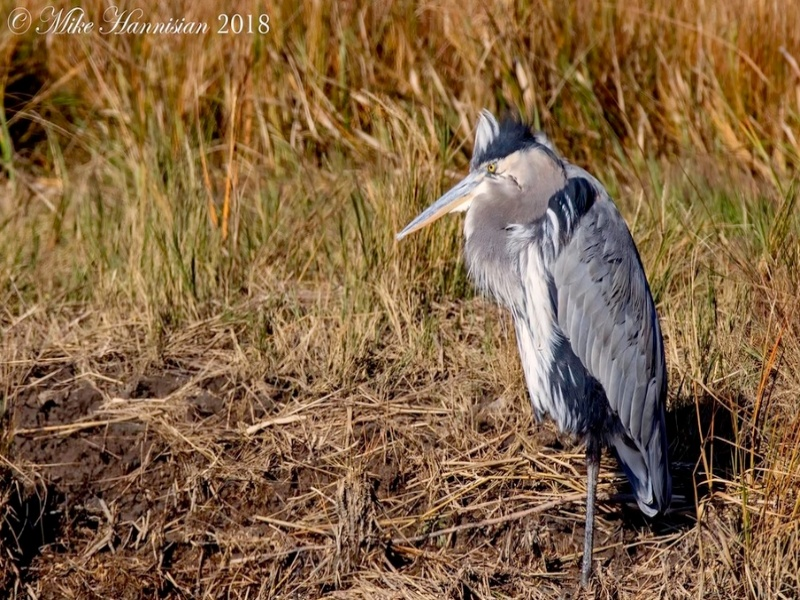heron: (388, 108, 669, 578)
